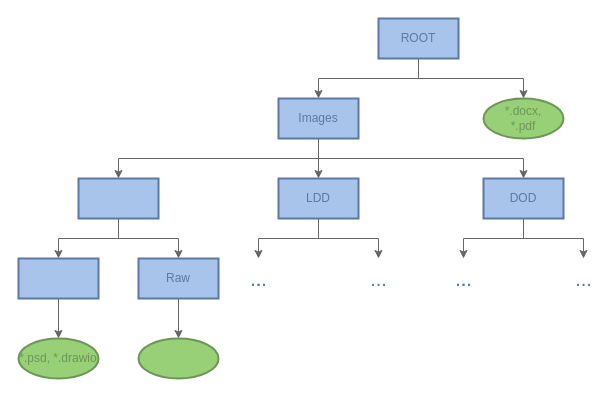
Image size: 615x396. Some labels were removed from this diagram. Each missing label, with the centre of its shape:
*.jpeg, *.png: point 178,358
Common: point 118,198
Project: point 58,278
